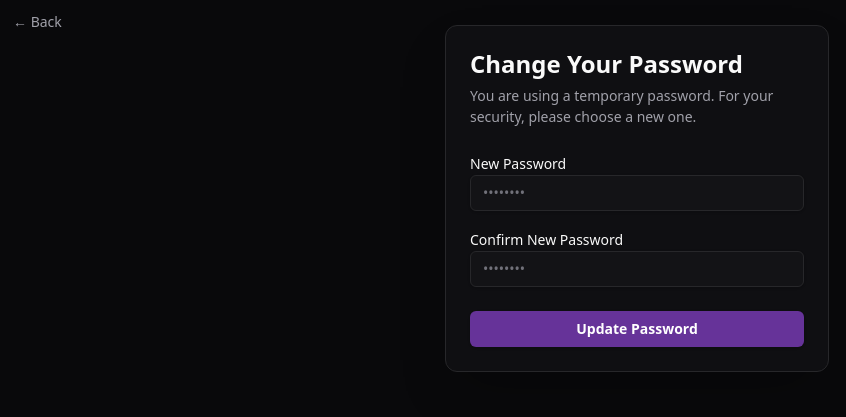
ChangePasswordPage › exige 8 caracteres, como o cadastro
Type "1234567" into the password field labelled "New Password".
click(637, 193); type("1234567")  # box [470, 175, 804, 211]
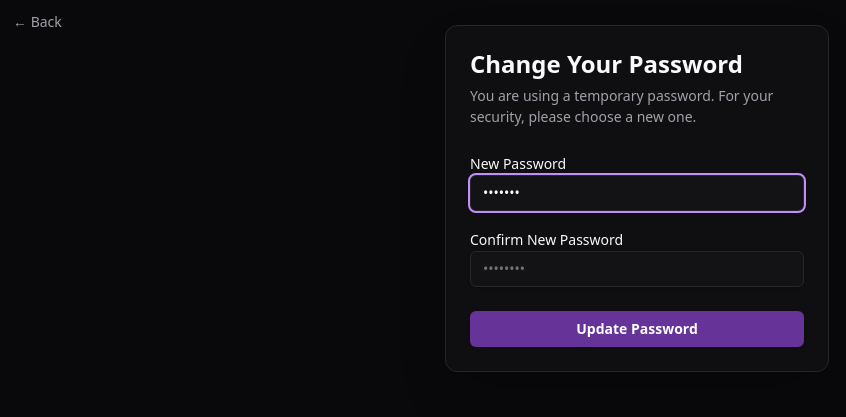
Type "1234567" into the password field labelled "Confirm New Password".
click(637, 269); type("1234567")  # box [470, 251, 804, 287]
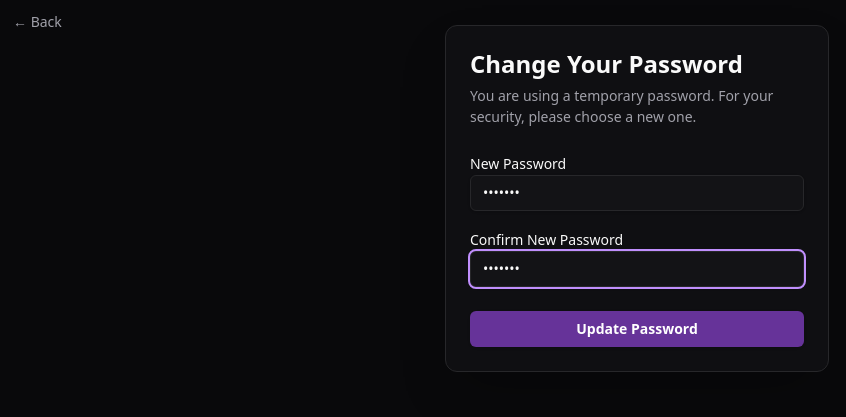
Click the button "Update Password".
click(637, 329)  # box [470, 311, 804, 347]
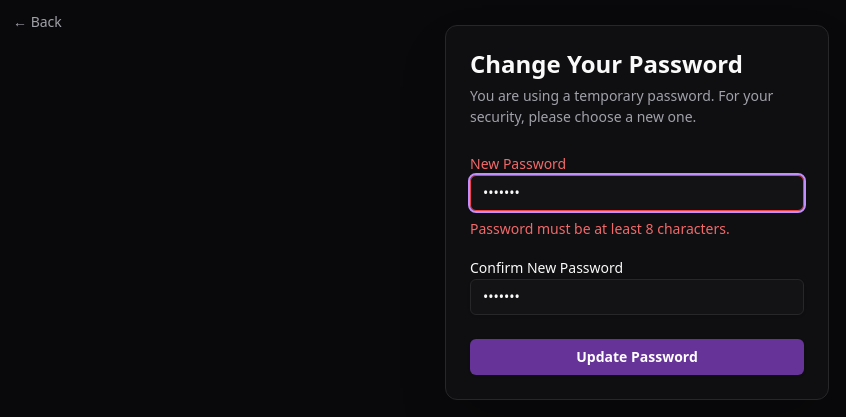
Result: the text "Password must be at least 8 characters." is shown at [470, 219, 730, 238]
